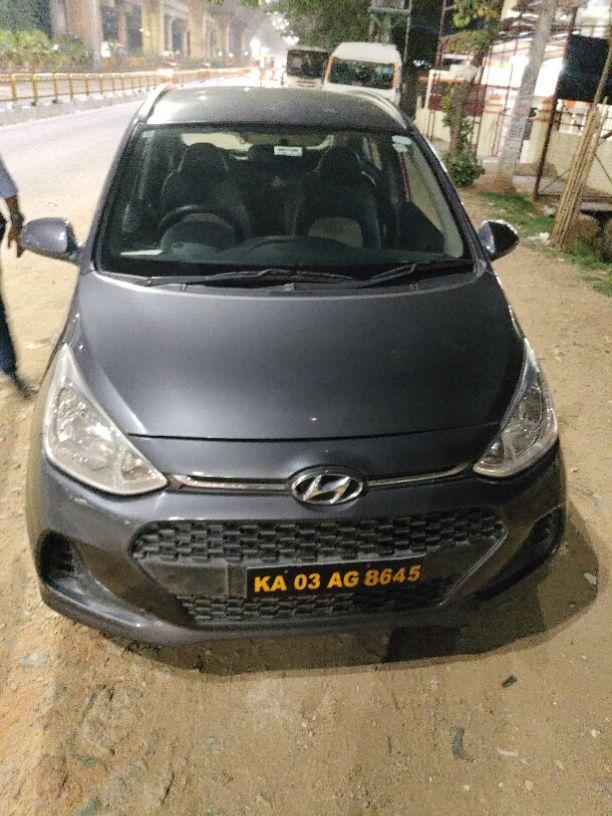license_plate: (128, 506, 509, 630), (244, 556, 425, 601)
